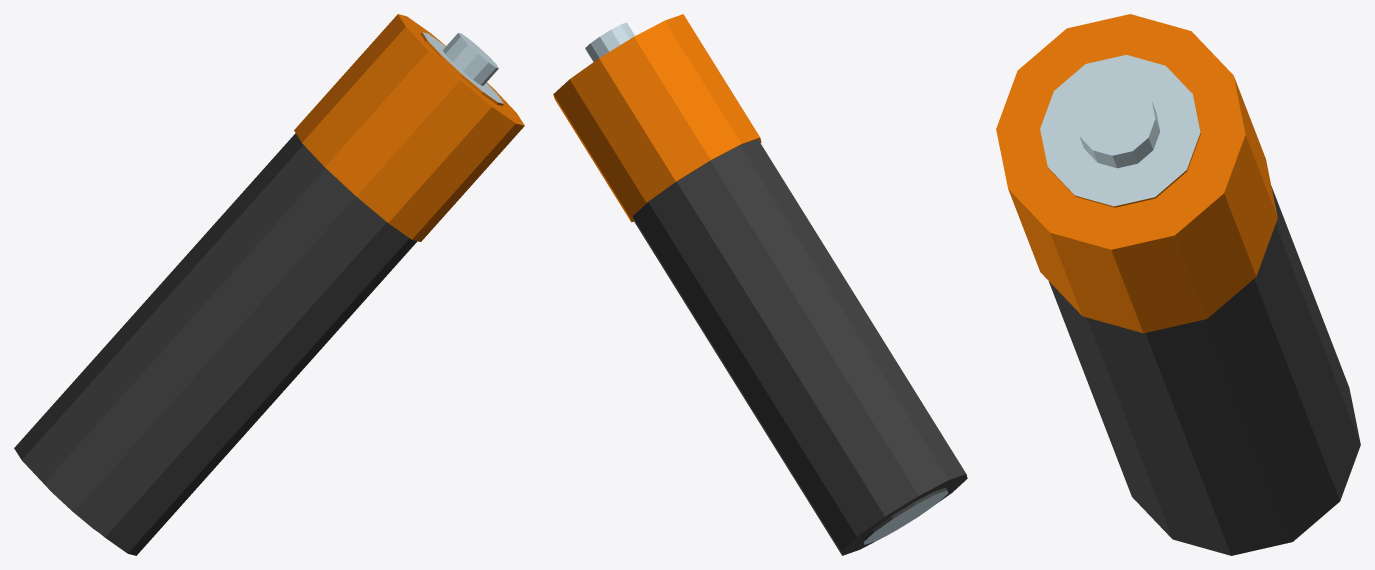
The model's file is battery.glb.
3 views of the same model, side by side, from view 1: azimuth 30°, elevation 25°; view 2: azimuth 150°, elevation 25°; view 3: azimuth 270°, elevation 25° (orthographic). The views are drawn at different scales.
Visible parts, largest first — view 1: Cylinder; view 2: Cylinder; view 3: Cylinder.
Part boxes in pixels (box(x1,y1,x2,y2)): Cylinder: box(14, 14, 524, 555); Cylinder: box(553, 14, 967, 555); Cylinder: box(996, 14, 1360, 555).
Size of the model in its own units: 0.2547 by 0.2618 by 0.1204.
1 material, 1 textured.
